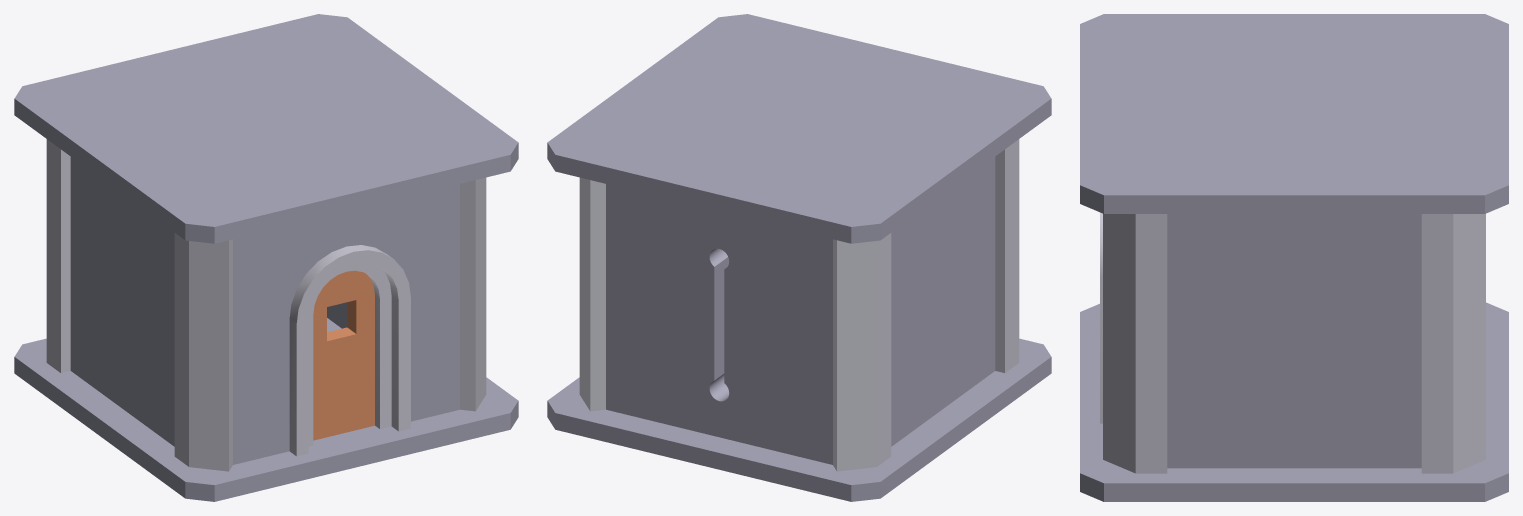
The model's file is BaseTower.fbx.
3 renders of one model, left to right at view 1: azimuth 30°, elevation 25°; view 2: azimuth 150°, elevation 25°; view 3: azimuth 270°, elevation 25°, orthographic. The views are drawn at different scales.
Parts seen in each view (by area): view 1: floor_square_2, wall_doorwayRound_15, wall_straight_10, wall_border_26, floor_square_38, door_round_16, wall_border_25; view 2: floor_square_2, wall_slit_66, wall_straight_10, wall_border_26, floor_square_38, wall_border_25; view 3: floor_square_2, wall_straight_13, wall_border_25, floor_square_38, wall_doorwayRound_15.
Boxes of the visible parts, box(x1,y1,x2,y2) form: floor_square_2: box(14, 14, 518, 243); wall_doorwayRound_15: box(233, 184, 459, 464); wall_straight_10: box(70, 157, 174, 446); wall_border_26: box(46, 139, 232, 471); floor_square_38: box(14, 318, 518, 501); door_round_16: box(308, 263, 391, 446); wall_border_25: box(460, 177, 486, 411); floor_square_2: box(547, 14, 1051, 243); wall_slit_66: box(606, 184, 832, 464); wall_straight_10: box(891, 157, 995, 446); wall_border_26: box(833, 139, 1019, 471); floor_square_38: box(547, 338, 1051, 501); wall_border_25: box(579, 177, 605, 411); floor_square_2: box(1080, 14, 1508, 213); wall_straight_13: box(1167, 214, 1421, 468); wall_border_25: box(1103, 214, 1485, 473); floor_square_38: box(1080, 302, 1508, 501); wall_doorwayRound_15: box(1100, 212, 1102, 423).
Bounding box in the file's own units: 13.5 × 10.65 × 13.5.
